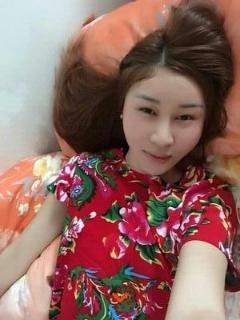short sleeve top: (46, 147, 239, 319)
